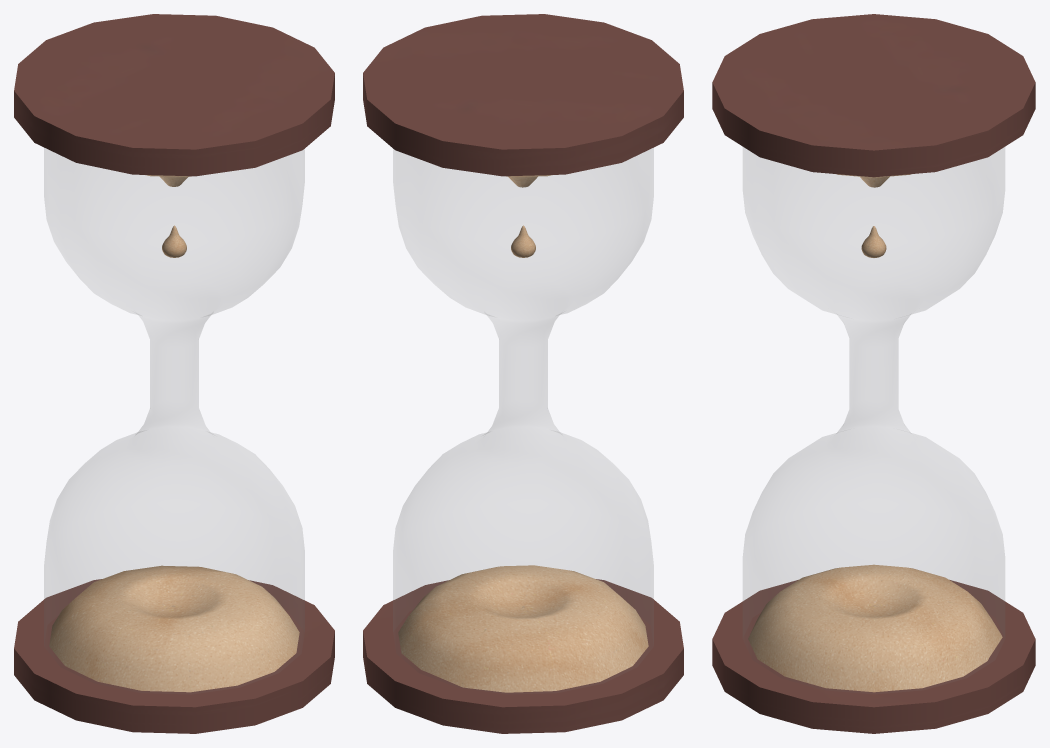
The model's file is Hourglass.fbx.
3 renders of one model, left to right at view 1: azimuth 30°, elevation 25°; view 2: azimuth 150°, elevation 25°; view 3: azimuth 270°, elevation 25°, orthographic.
Parts seen in each view (by area): view 1: Hourglass_GEO; view 2: Hourglass_GEO; view 3: Hourglass_GEO.
Boxes of the visible parts, x1,y1,x2,y2 form: Hourglass_GEO: (14, 14, 334, 733); Hourglass_GEO: (363, 14, 683, 733); Hourglass_GEO: (712, 14, 1035, 733).
Size of the model in its own units: 2.46 by 4.9 by 2.46.
